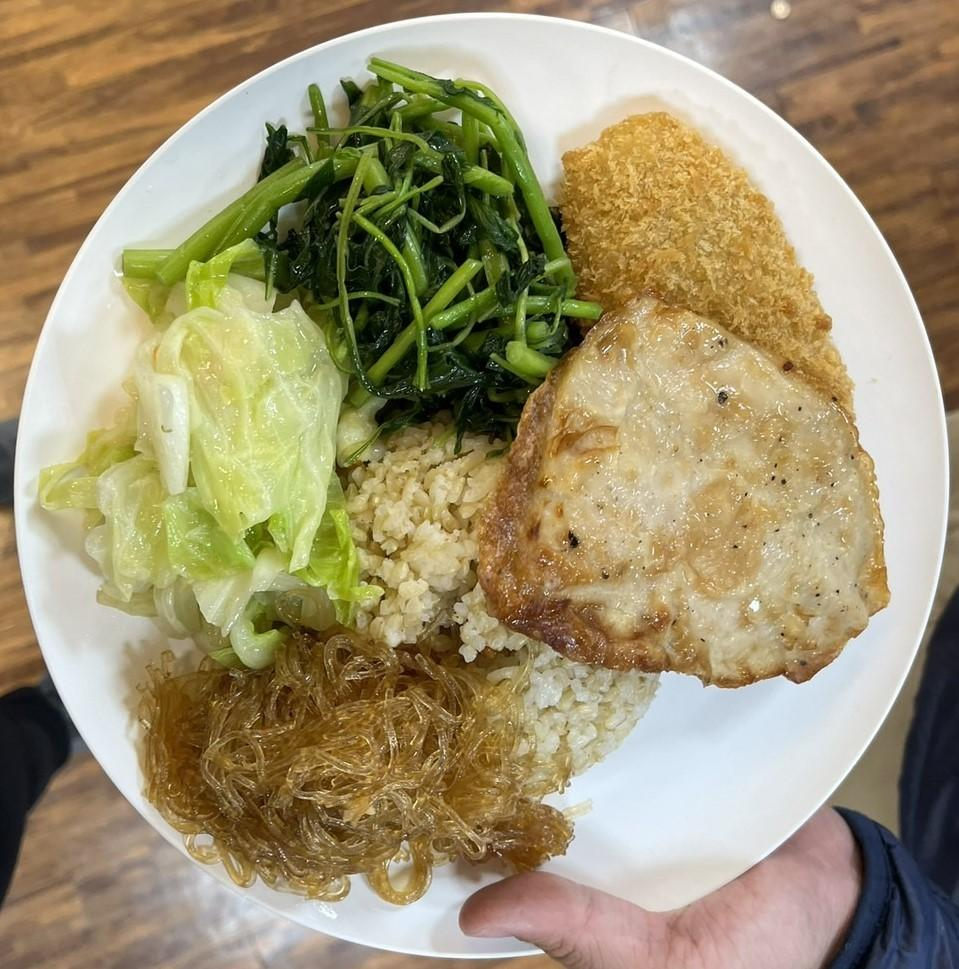big fried chicken leg: (22, 10, 959, 969)
box: (340, 430, 660, 783)
braised fish fillet: (132, 644, 561, 894), (60, 286, 347, 657), (279, 70, 572, 428)
braised pork: (491, 298, 872, 692), (554, 104, 860, 409)
